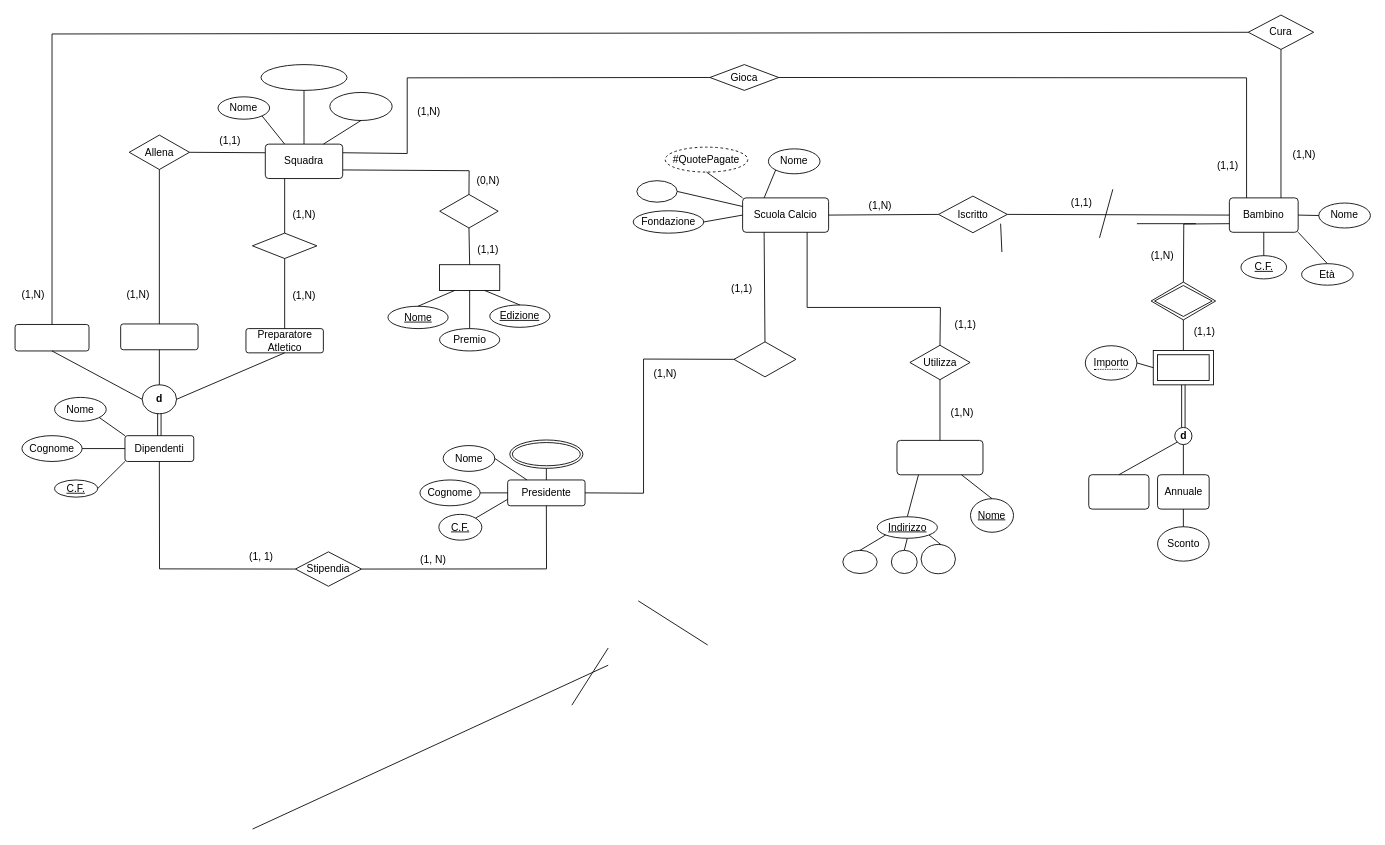
Image size: 1385x845. Some labels were removed from this diagram. The shapes that lost their labels are listed below. From the top down, each one's centre as x and y in pixels, then its label:
At (303,77): "Età bambini".
At (360,106): "Categoria".
At (468,211): "Vince".
At (656,191): "P. IVA".
At (284,245): "Prepara".
At (469,277): "Torneo".
At (1183,300): "Paga".
At (51,337): "Fisioterapista".
At (159,336): "Allenatore".
At (764,359): "Possiede".
At (1182,367): "Retta".
At (546,453): "#Telefono".
At (939,457): "Centro Sportivo".
At (1118,491): "Mensile".
At (859,561): "Civico".
At (904,561): "Via".
At (937,559): "Città".
